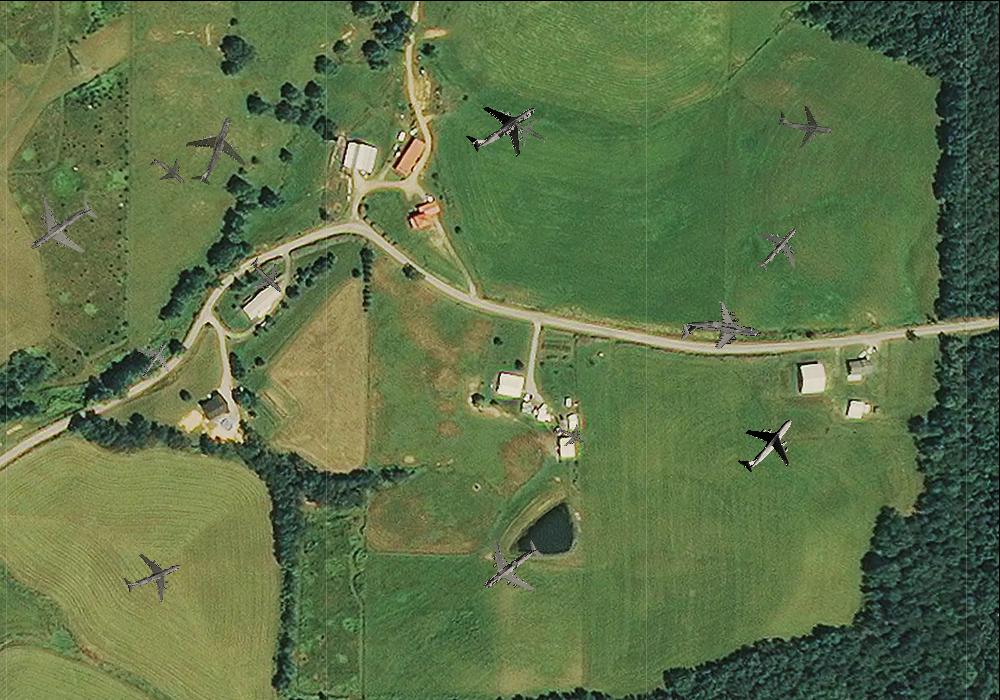plane: (11, 177, 111, 276), (453, 78, 552, 176), (465, 522, 557, 613), (722, 398, 813, 490), (170, 104, 258, 195), (676, 292, 765, 370), (114, 539, 190, 613), (741, 211, 814, 284), (775, 95, 837, 153), (238, 247, 295, 305), (125, 330, 182, 388), (141, 145, 194, 197), (504, 106, 555, 156), (551, 416, 591, 456)
